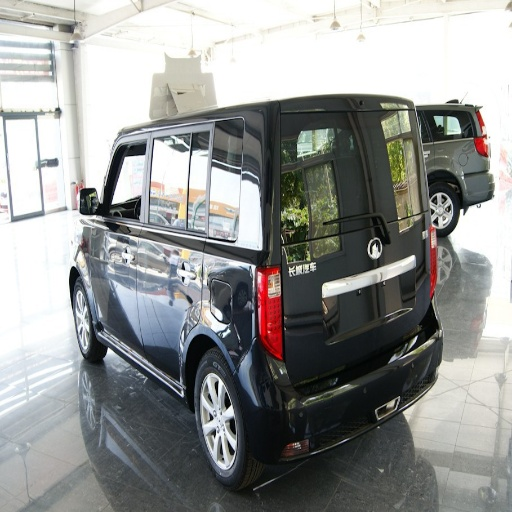back_left_door: (138, 200, 190, 352)
trunk: (290, 140, 471, 373), (183, 240, 253, 350)
